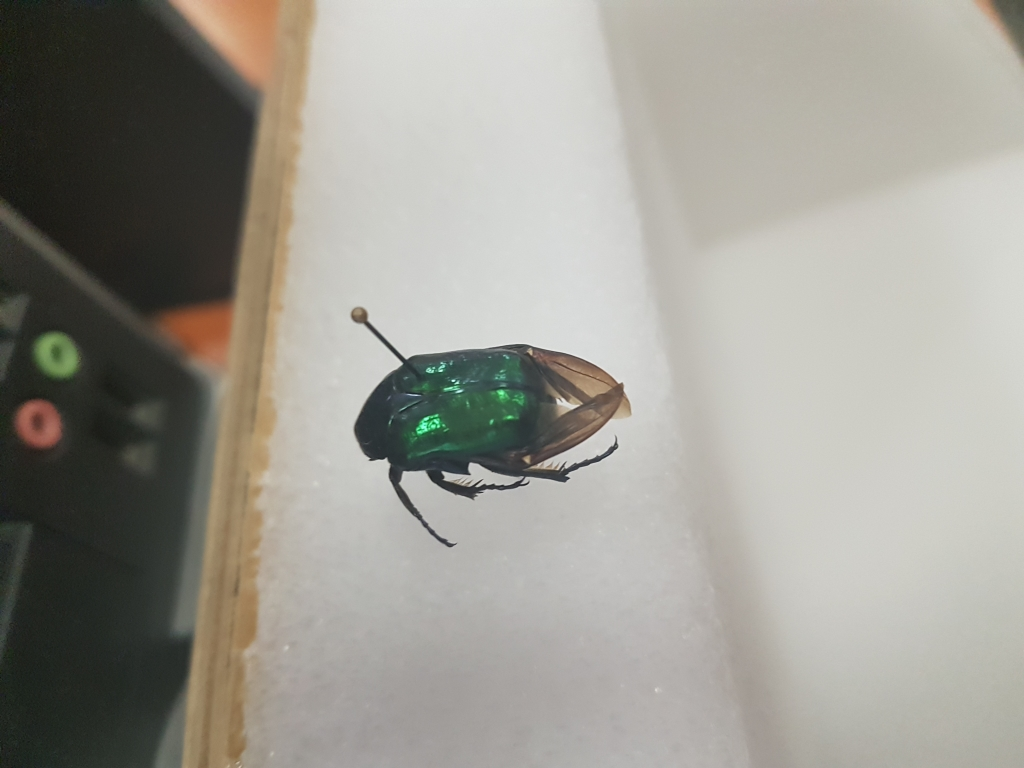Protaetia_angustata_angustata: (343, 328, 649, 555)
